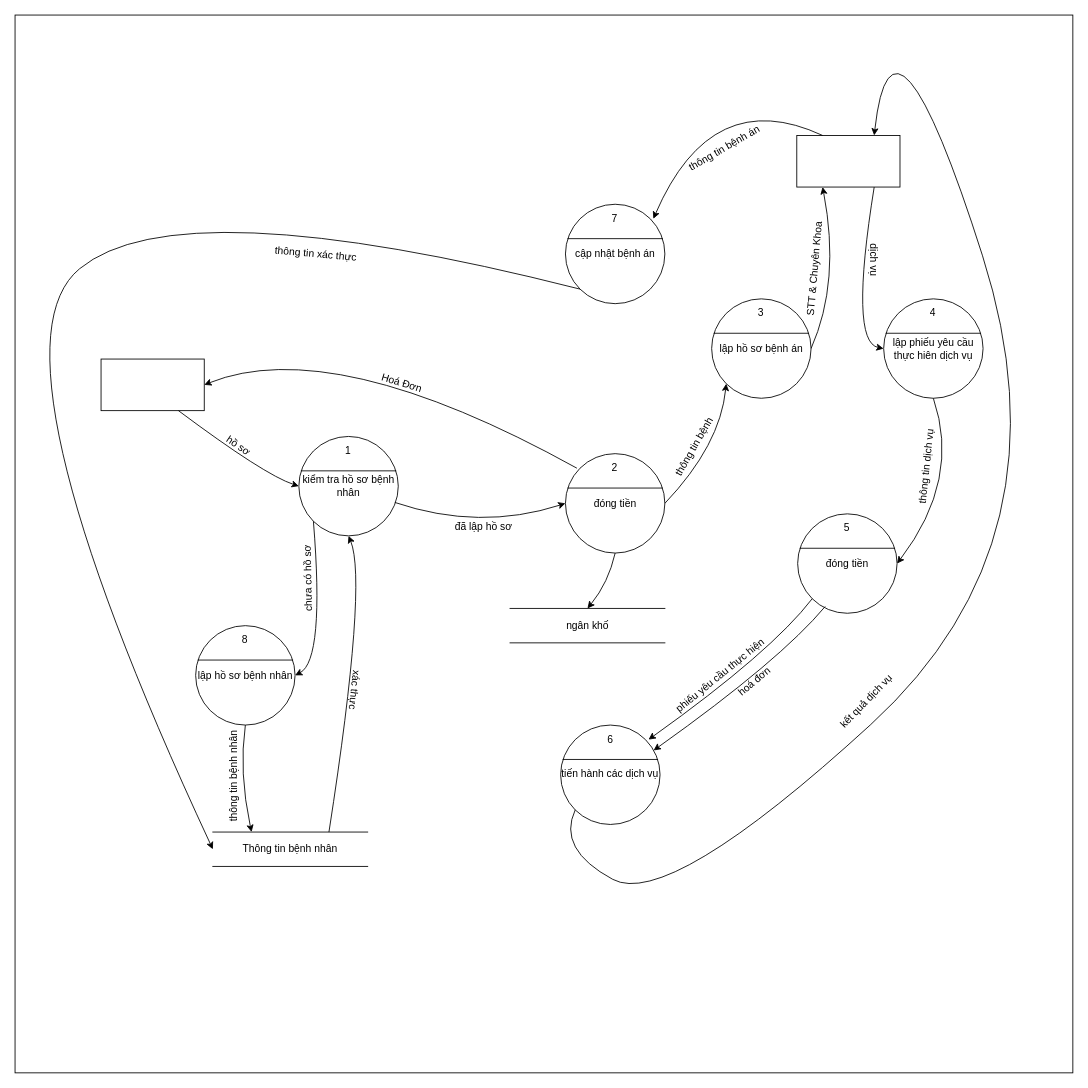
Image size: 1088x1088. Some labels were removed from this diagram. The shapes that lost their labels are listed below. From the top down, each one's centre as x and y in pixels, then its label:
At [848,161]: "bác sĩ".
At [152,384]: "Bệnh nhân".
